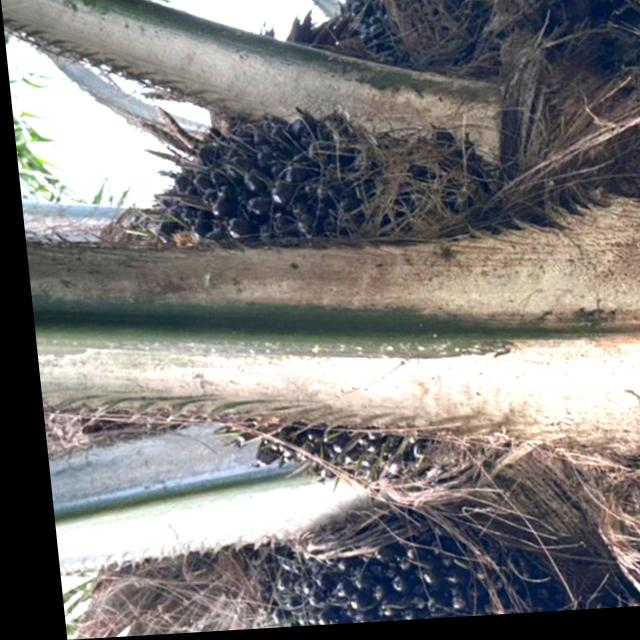almost: (106, 102, 496, 503)
